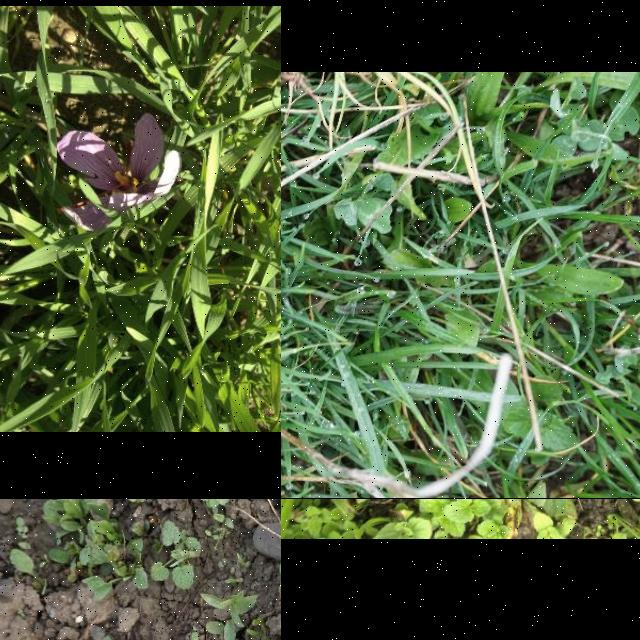flower: (58, 114, 180, 232)
